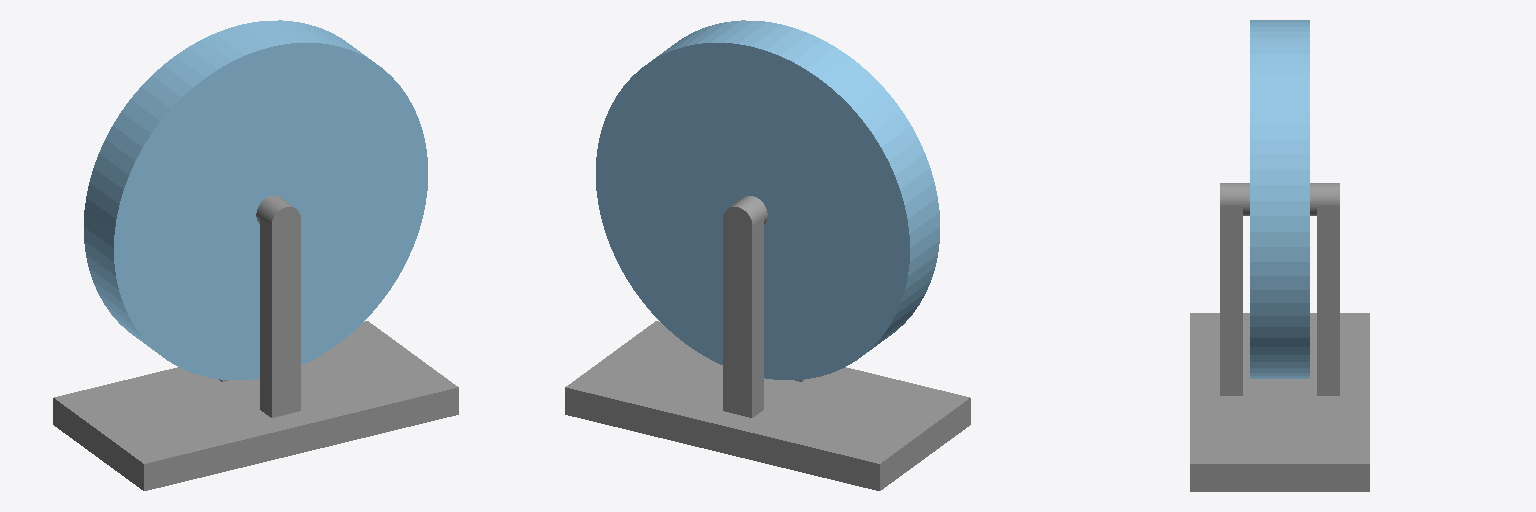
The robot description file, URDF, robot "Wheel":
<robot name="Wheel">
	<link name="part_2">
		<visual>
			<origin xyz="-2.77556e-17 1.9082e-17 0.2032" rpy="0 -0 0" />
			<geometry>
				<mesh filename="part_2.stl"/>
			</geometry>
			<material name="part_2_material">
				<color rgba="0.647059 0.647059 0.647059 1.0"/>
			</material>
		</visual>
		<collision>
			<origin xyz="-2.77556e-17 1.9082e-17 0.2032" rpy="0 -0 0" />
			<geometry>
				<mesh filename="part_2.stl"/>
			</geometry>
			<material name="part_2_material">
				<color rgba="0.647059 0.647059 0.647059 1.0"/>
			</material>
		</collision>
		<inertial>
			<origin xyz="-4.34574e-17 8.76783e-18 0.0335895" rpy="0 0 0"/>
			<mass value="11.195" />
			<inertia ixx="0.0514132" ixy="0"  ixz="0" iyy="0.102411" iyz="0" izz="0.0926616" />
		</inertial>
	</link>
	<link name="wheel">
		<visual>
			<origin xyz="-2.77556e-17 0 1.38778e-17" rpy="1.5708 -0 -5.6974e-18" />
			<geometry>
				<mesh filename="wheel.stl"/>
			</geometry>
			<material name="wheel_material">
				<color rgba="0.615686 0.811765 0.929412 1.0"/>
			</material>
		</visual>
		<collision>
			<origin xyz="-2.77556e-17 0 1.38778e-17" rpy="1.5708 -0 -5.6974e-18" />
			<geometry>
				<mesh filename="wheel.stl"/>
			</geometry>
			<material name="wheel_material">
				<color rgba="0.615686 0.811765 0.929412 1.0"/>
			</material>
		</collision>
		<inertial>
			<origin xyz="-2.78024e-17 -1.24009e-17 1.20479e-17" rpy="0 0 0"/>
			<mass value="4.04156" />
			<inertia ixx="0.0245421" ixy="-3.3874e-18"  ixz="0" iyy="0.0245421" iyz="0" izz="0.0473459" />
		</inertial>
	</link>
	<joint name="wheel" type="revolute">
		<origin xyz="-2.81661e-17 -8.67362e-18 0.2032" rpy="-1.5708 0.880047 0" />
		<parent link="part_2" />
		<child link="wheel" />
		<axis xyz="0 0 1"/>
		<limit effort="1" velocity="20" />
		<joint_properties friction="0.0"/>
	</joint>
</robot>

--- What the picture shows (computed from the rendered views, not written in the file) ---
3 views of the same robot in one strip: view 1: azimuth 30°, elevation 25°; view 2: azimuth 150°, elevation 25°; view 3: azimuth 270°, elevation 25° (orthographic).
Model Wheel with 2 links and 1 joints (1 revolute), rooted at part_2, posed every joint at zero.
Links seen in each view (by area): view 1: wheel, part_2; view 2: wheel, part_2; view 3: part_2, wheel.
Link boxes in pixels (box(x1,y1,x2,y2)): wheel: box(84, 20, 427, 379); part_2: box(53, 196, 458, 490); wheel: box(596, 20, 939, 379); part_2: box(565, 196, 970, 490); part_2: box(1190, 183, 1369, 491); wheel: box(1250, 20, 1309, 378).
Bounding box of the posed robot: 0.3048 × 0.1524 × 0.3556 m (x, y, z).
Meshes: 2 distinct files referenced, 2 mesh visuals loaded (2 binary STL).